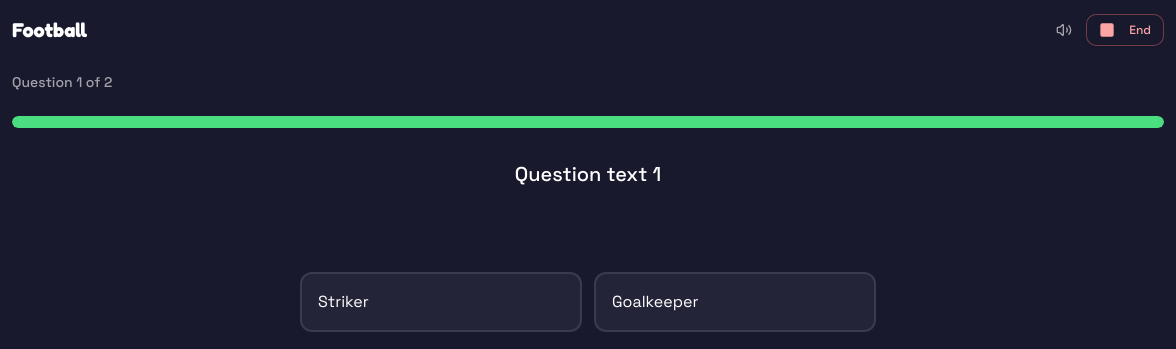
Test: QuizStage › locks the options after a tap so a second tap can't answer twice
The width and height of the screenshot is (1176, 349).
Expected: the text "Question text 1" is shown, [515, 160, 661, 188]
Click the button "Striker" at x=343, y=302, box [300, 272, 582, 332]
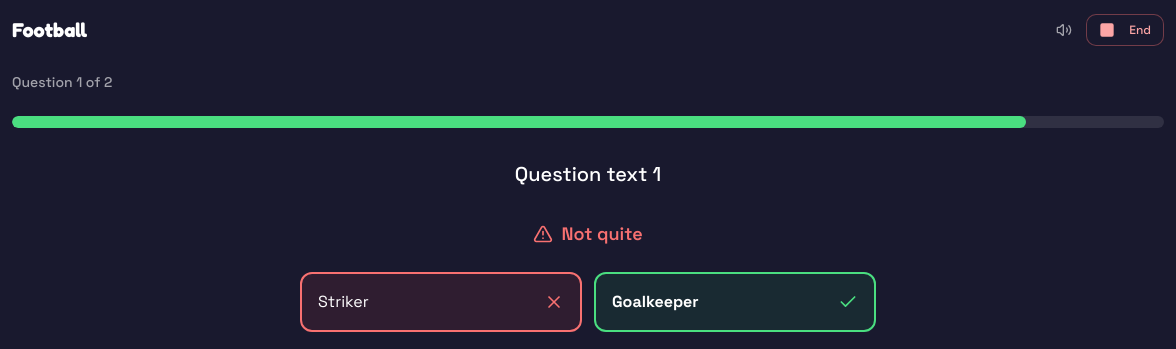
Expected: the text "Not quite" is shown, [533, 222, 643, 245]
Expected: the button "Goalkeeper" is disabled, [594, 272, 876, 332]
